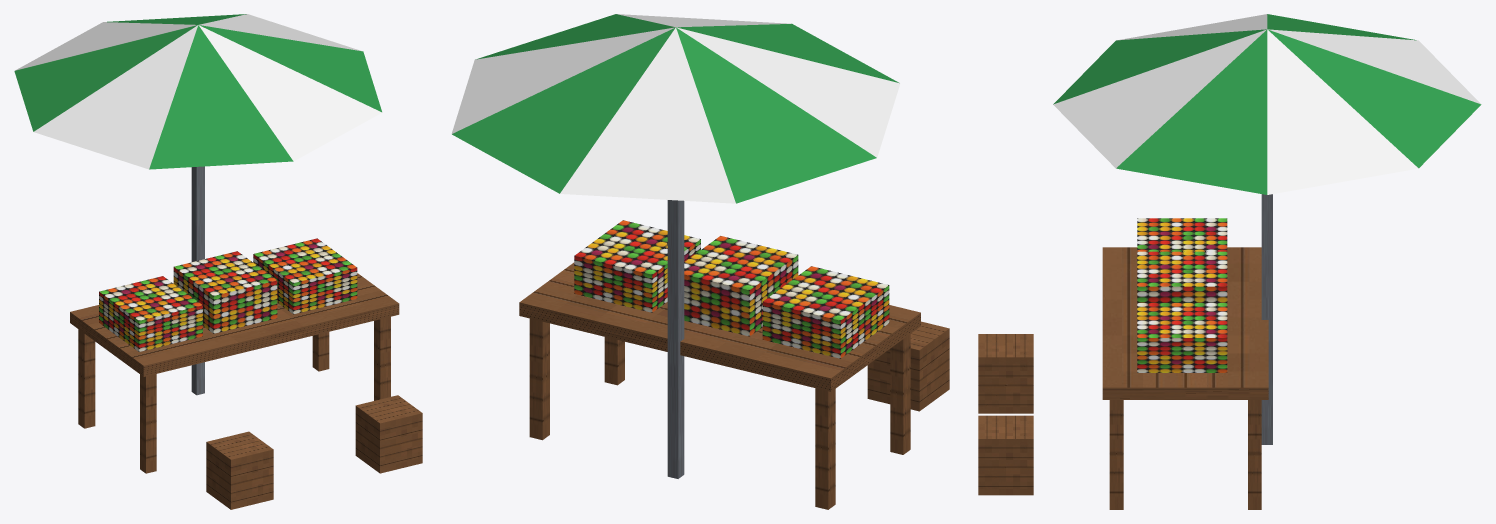
File: stall-blue.glb
3 renders of one model, left to right at view 1: azimuth 30°, elevation 25°; view 2: azimuth 150°, elevation 25°; view 3: azimuth 270°, elevation 25°, orthographic. The views are drawn at different scales.
Parts seen in each view (by area): view 1: stall-blue; view 2: stall-blue; view 3: stall-blue.
Part boxes in pixels (box(x1,y1,x2,y2)): stall-blue: box(14, 14, 422, 509); stall-blue: box(451, 14, 949, 509); stall-blue: box(978, 14, 1481, 509).
Size of the model in its own units: 3.1 by 3.3 by 3.64.
1 material, 1 textured.
